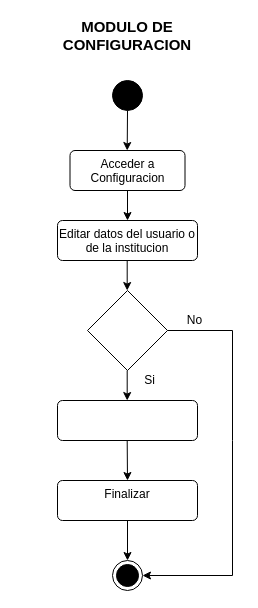
The diagram is 258 pixels wide and 608 high, and some of its shapes have lost their labels. Each missing label, with the box of its shape:
Editar Informacion: (86, 290, 168, 370)
Guardar cambios: (56, 400, 198, 440)
